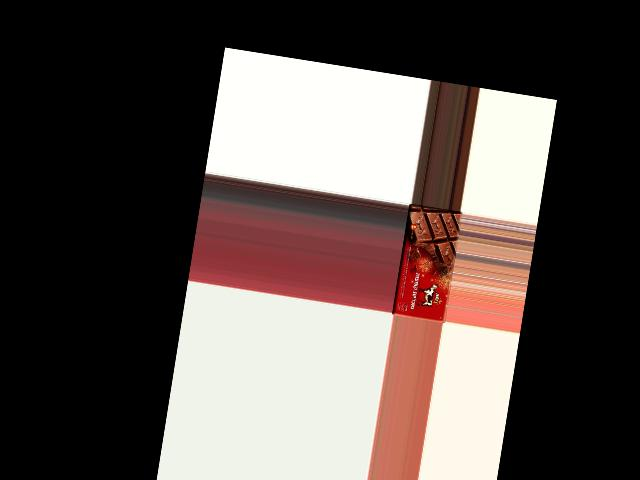chocolate: (391, 204, 462, 323)
